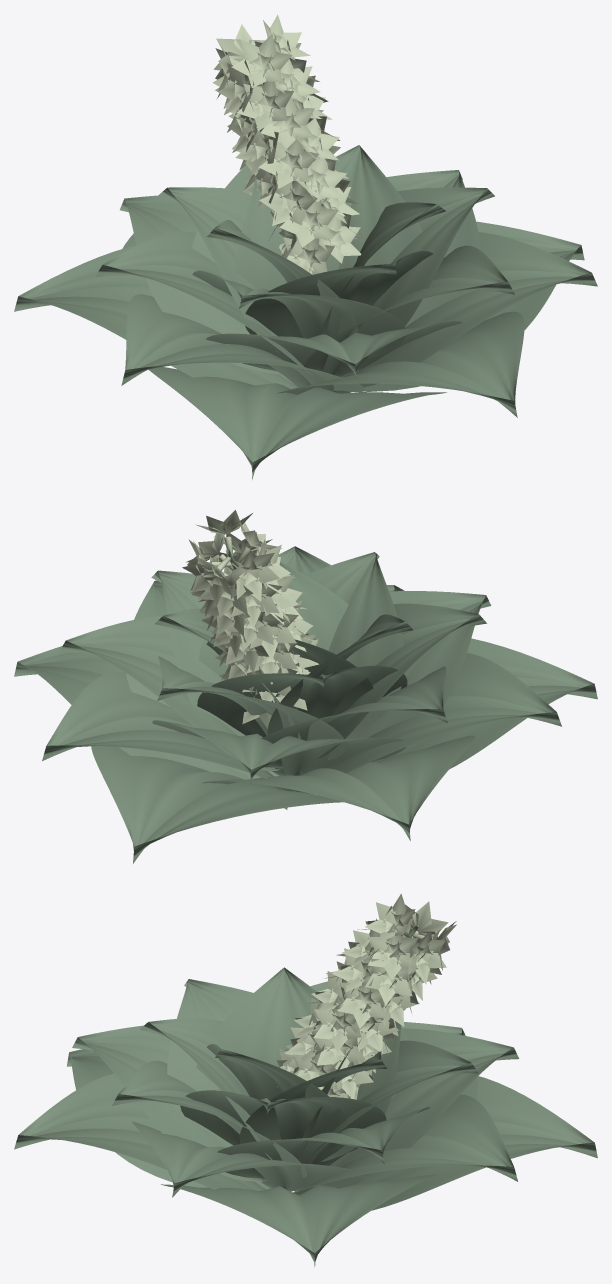
3 views of the same model, one above another, from view 1: azimuth 30°, elevation 25°; view 2: azimuth 150°, elevation 25°; view 3: azimuth 270°, elevation 25° (orthographic). The views are drawn at different scales.
Parts seen in each view (by area): view 1: leafy_base, floret.043, floret.022, floret.035, floret.014, floret.009, floret.030, floret.017, floret.001, floret.004, floret.027, floret.038 (+6 smaller); view 2: leafy_base, floret.045, floret.047, floret.029, floret.037, floret.042, floret.016, floret.024, floret.046, floret.021, floret.034, floret.032 (+4 smaller); view 3: leafy_base, floret.041, floret.028, floret.020, floret.046, floret.036, floret.044, floret.015, floret.023, floret.033, floret.012, floret.025 (+5 smaller).
Part boxes in pixels (x1,y1,x2,y2): leafy_base: (14,145,597,479); floret.043: (231,34,292,87); floret.022: (258,139,318,188); floret.035: (236,81,293,130); floret.014: (259,176,317,225); floret.009: (279,190,338,247); floret.030: (260,97,314,148); floret.017: (296,151,346,202); floret.001: (283,227,334,274); floret.004: (317,216,361,263); floret.027: (235,127,278,175); floret.038: (268,59,320,102); leafy_base: (14,546,597,863); floret.045: (232,550,279,601); floret.047: (182,556,231,605); floret.029: (226,611,285,649); floret.037: (231,583,282,628); floret.042: (198,569,253,617); floret.016: (247,641,298,684); floret.024: (249,604,298,659); floret.046: (195,510,252,556); floret.021: (213,631,268,672); floret.034: (199,603,249,636); floret.032: (261,575,298,624); leafy_base: (14,967,597,1267); floret.041: (367,923,417,980); floret.028: (337,972,390,1028); floret.020: (313,995,361,1051); floret.046: (365,893,415,942); floret.036: (365,949,418,1005); floret.044: (408,931,448,984); floret.015: (313,1020,365,1069); floret.023: (351,1004,399,1053); floret.033: (332,942,383,992); floret.012: (285,1013,324,1065); floret.025: (311,971,354,1012).
Bounding box in the file's own units: 3.41 × 2.21 × 3.64.
